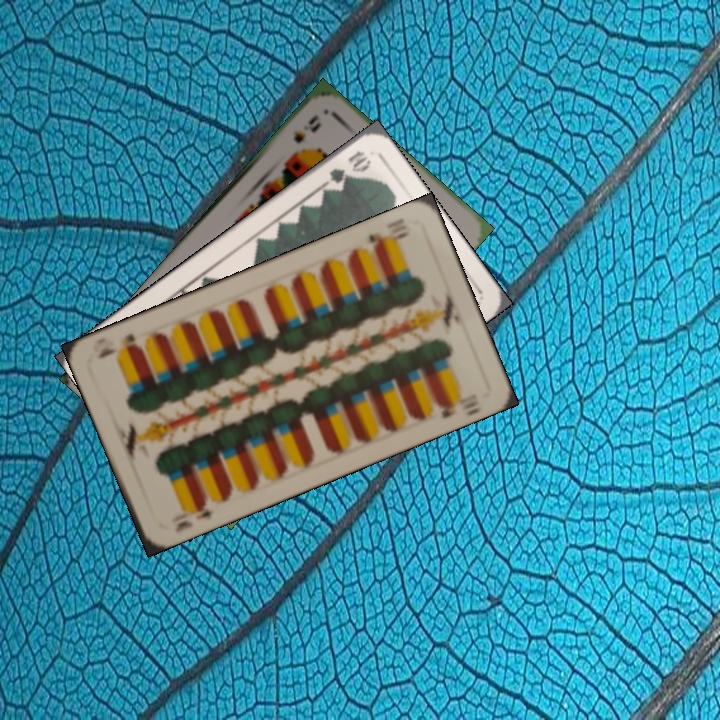E10: (171, 494, 217, 535), (364, 214, 411, 253)
G10: (319, 146, 374, 189)
S9: (289, 110, 324, 146)
